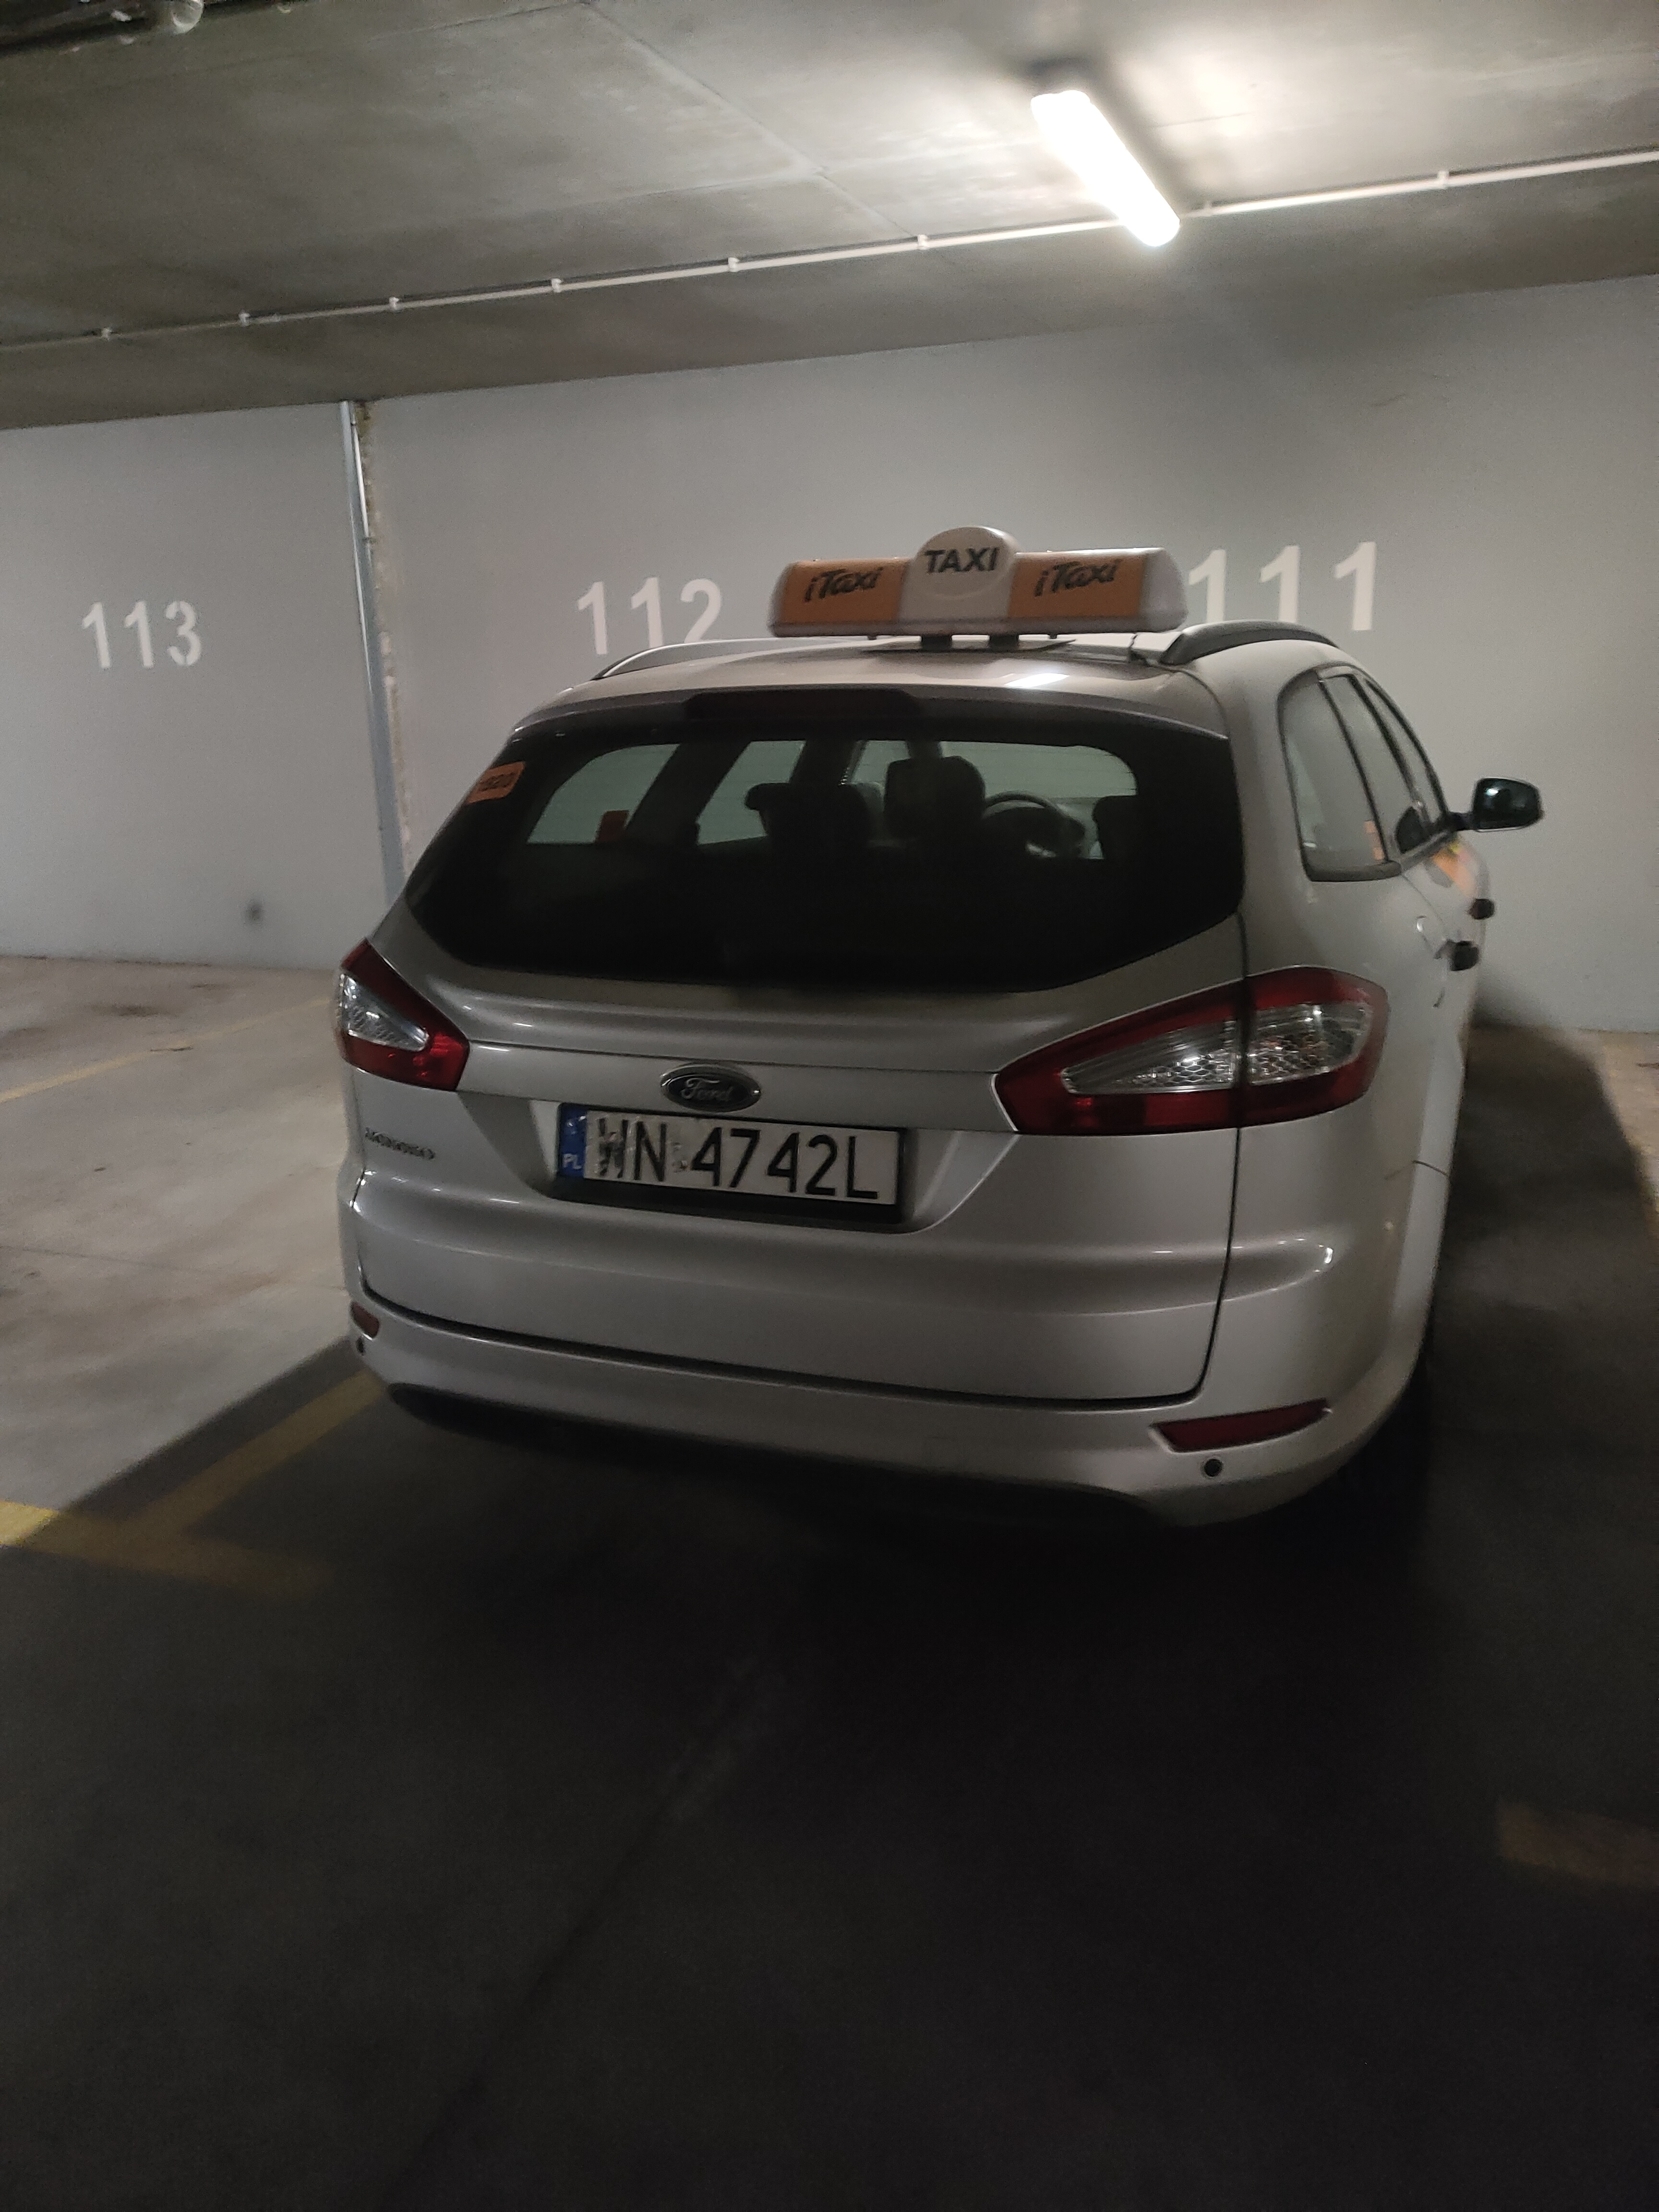number_plate: (551, 1101, 909, 1219)
